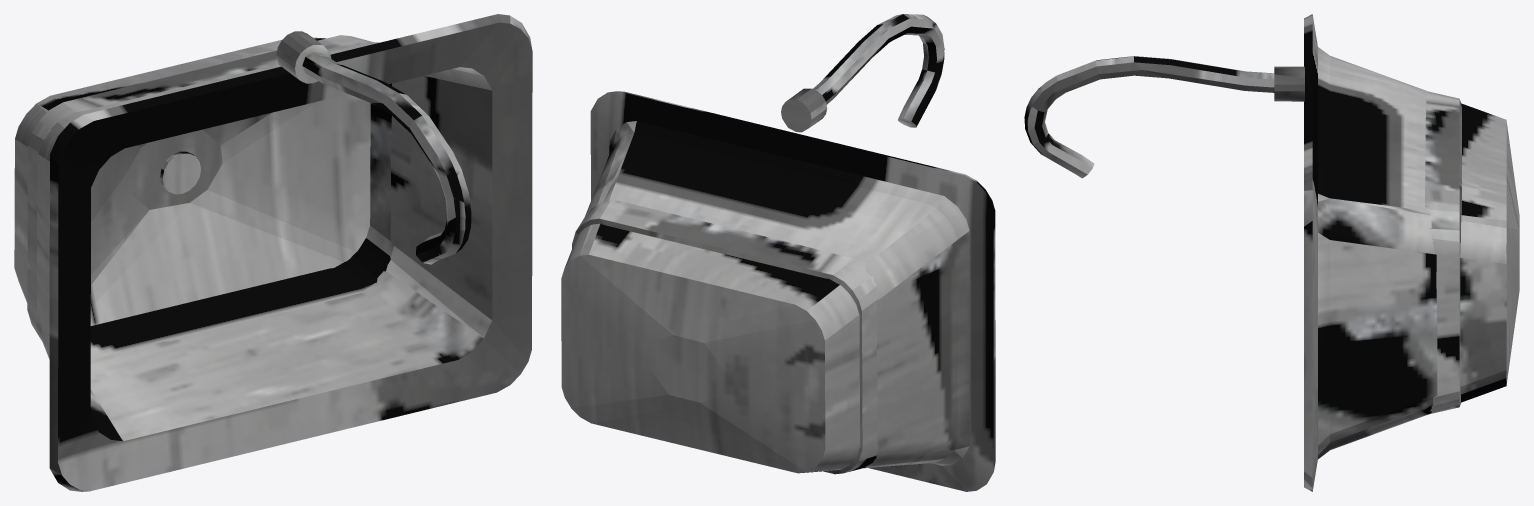
Rendered from pz_sink_inset_chrome.obj.
3 renders of one model, left to right at view 1: azimuth 30°, elevation 25°; view 2: azimuth 150°, elevation 25°; view 3: azimuth 270°, elevation 25°, orthographic. The views are drawn at different scales.
Bounding box in the file's own units: 0.5241 × 0.4461 × 0.5696.
